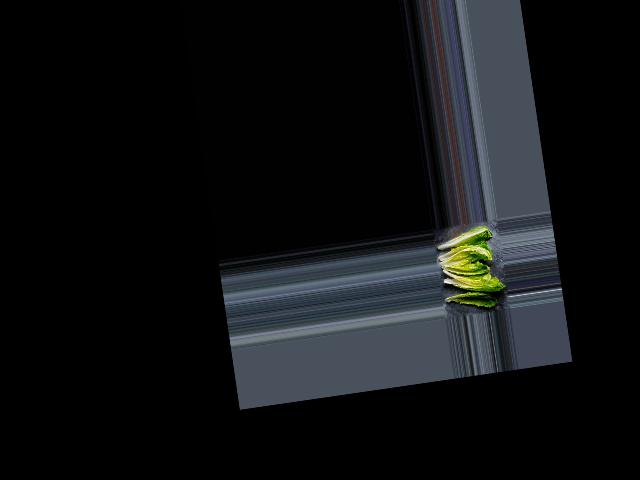lettuce: (442, 287, 497, 312)
